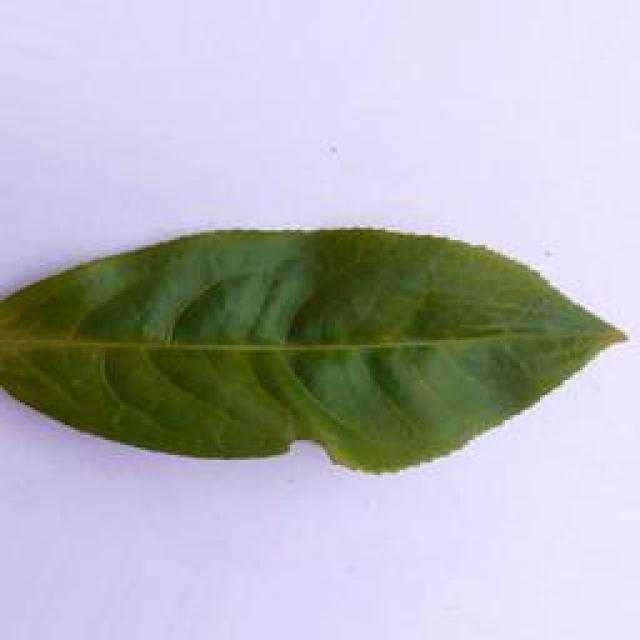Healthy: (4, 216, 628, 486)
